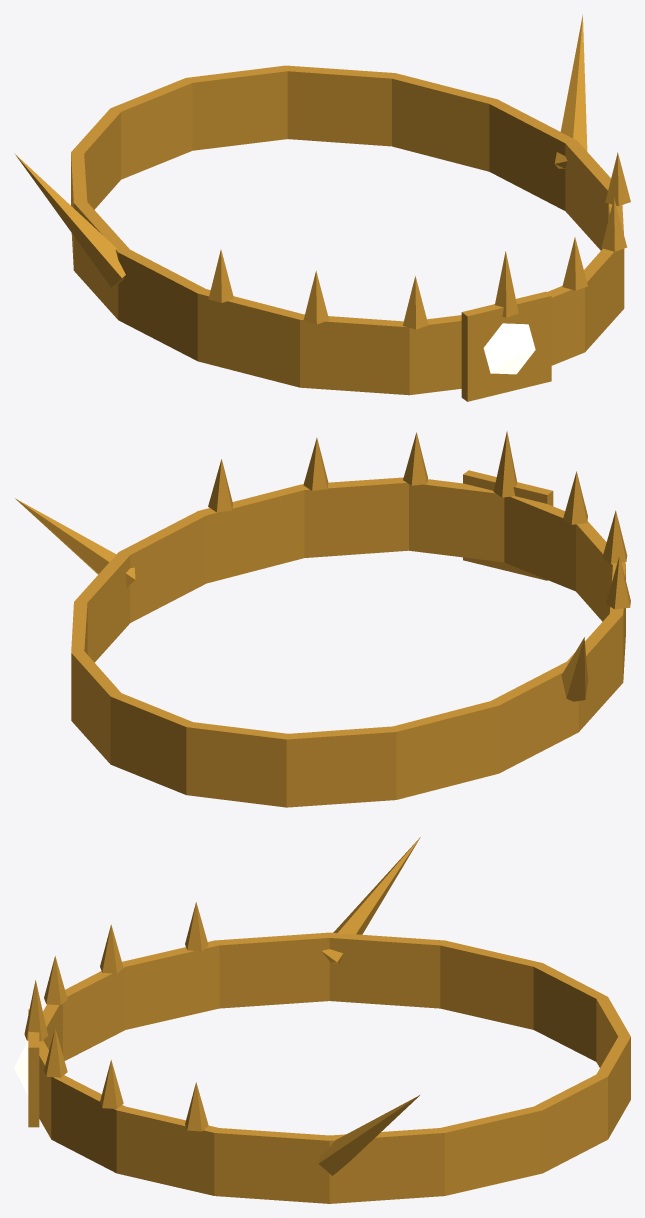
Rendered from armor_knight_head_legendary_human.glb.
3 views of the same model, one above another, from view 1: azimuth 30°, elevation 25°; view 2: azimuth 150°, elevation 25°; view 3: azimuth 270°, elevation 25° (orthographic). The views are drawn at different scales.
Parts seen in each view (by area): view 1: armor_knight_head_legendary_human__head; view 2: armor_knight_head_legendary_human__head; view 3: armor_knight_head_legendary_human__head.
Part boxes in pixels (x1,y1,x2,y2): armor_knight_head_legendary_human__head: (14, 14, 630, 401); armor_knight_head_legendary_human__head: (15, 431, 630, 807); armor_knight_head_legendary_human__head: (14, 837, 630, 1203).
Size of the model in its own units: 67.54 by 17.43 by 68.19.
